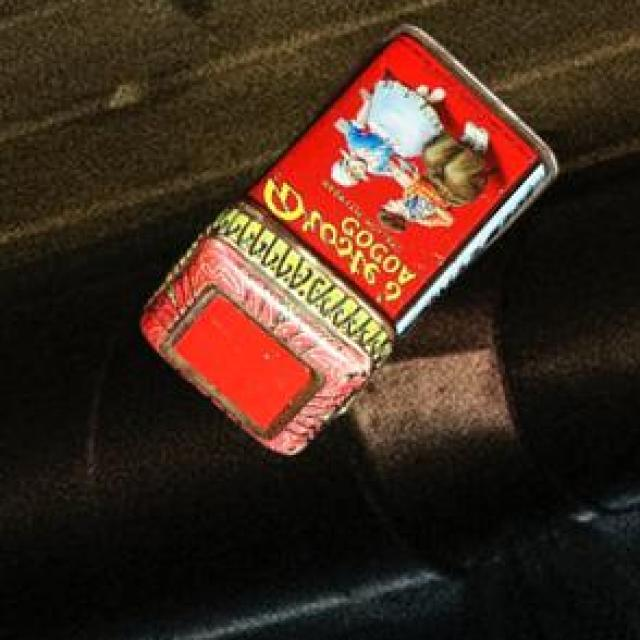logam: (145, 21, 561, 452)
